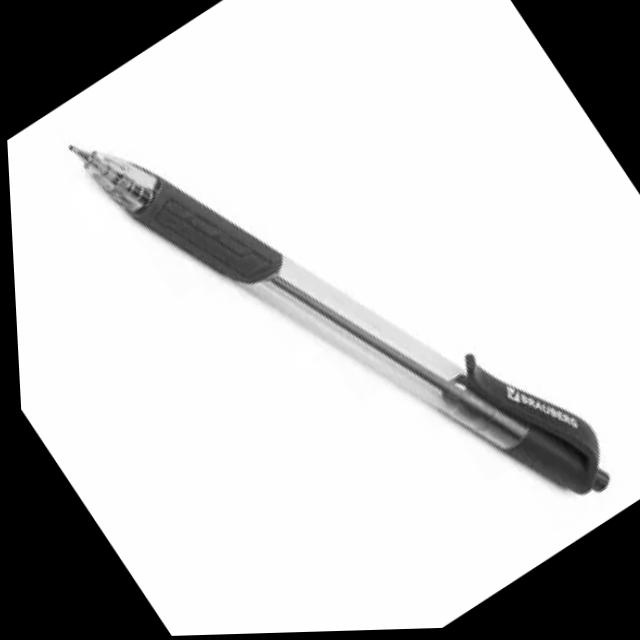pen: (52, 0, 636, 638)
